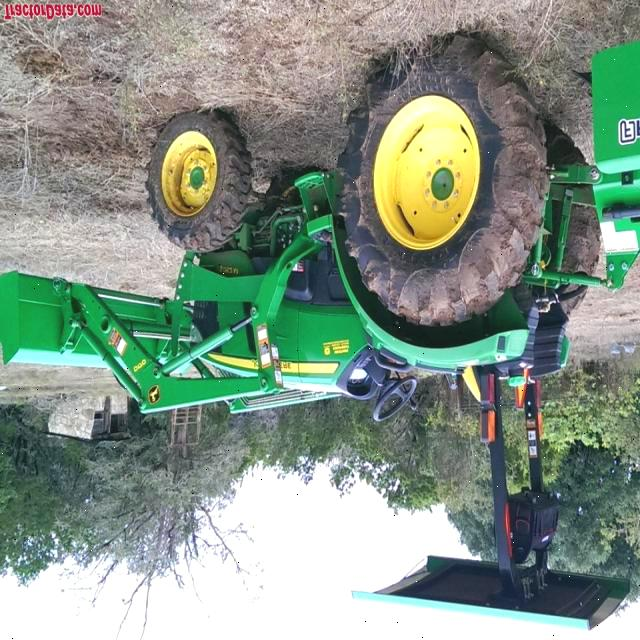Tratores - v5 YOLO V8L 2024-11-13: (12, 9, 640, 633)
